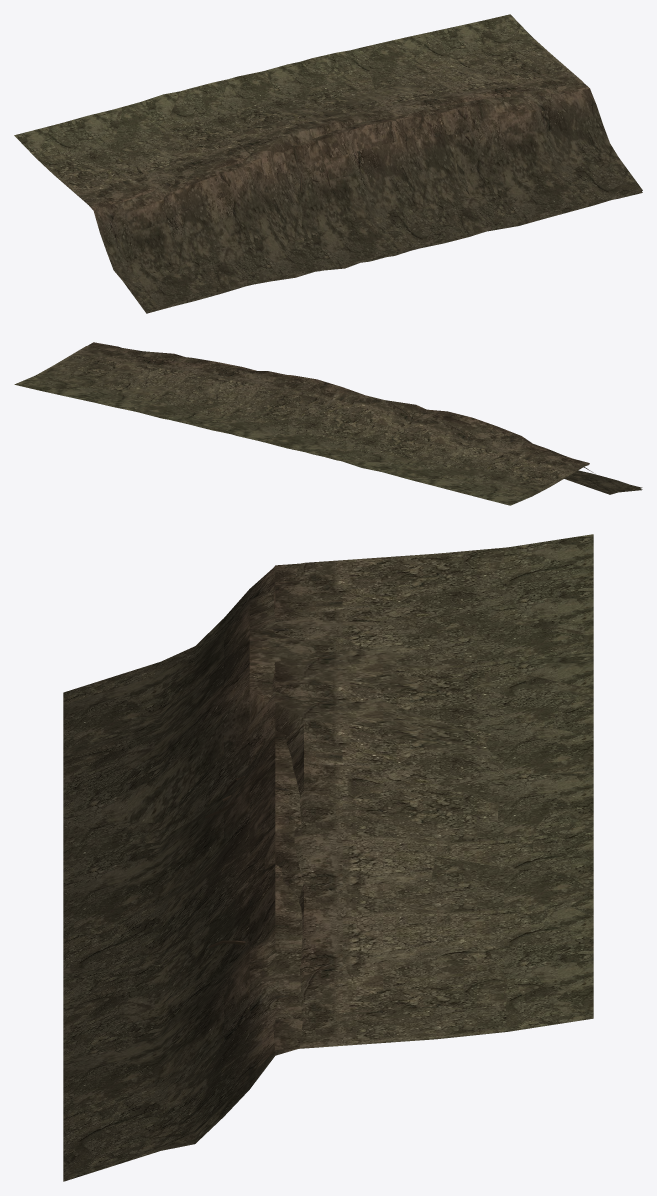
File: fdx-bank-earth.glb
3 views of the same model, one above another, from view 1: azimuth 30°, elevation 25°; view 2: azimuth 150°, elevation 25°; view 3: azimuth 270°, elevation 25° (orthographic). The views are drawn at different scales.
Parts seen in each view (by area): view 1: fdx_bank_earth_b_lod0, fdx_bank_earth_a_lod0, fdx_bank_earth_c_lod0; view 2: fdx_bank_earth_c_lod0, fdx_bank_earth_a_lod0, fdx_bank_earth_b_lod0; view 3: fdx_bank_earth_b_lod0, fdx_bank_earth_c_lod0, fdx_bank_earth_a_lod0.
Part boxes in pixels (x1,y1,x2,y2): fdx_bank_earth_b_lod0: (14,14,642,312); fdx_bank_earth_a_lod0: (35,15,642,311); fdx_bank_earth_c_lod0: (36,14,642,313); fdx_bank_earth_c_lod0: (15,346,641,496); fdx_bank_earth_a_lod0: (18,342,642,496); fdx_bank_earth_b_lod0: (14,348,642,505); fdx_bank_earth_b_lod0: (63,534,593,1176); fdx_bank_earth_c_lod0: (63,547,593,1181); fdx_bank_earth_a_lod0: (63,547,593,1177).
Size of what is drawn, in the model's own units: 4 by 0.6891 by 1.85.
1 material, 1 textured.
